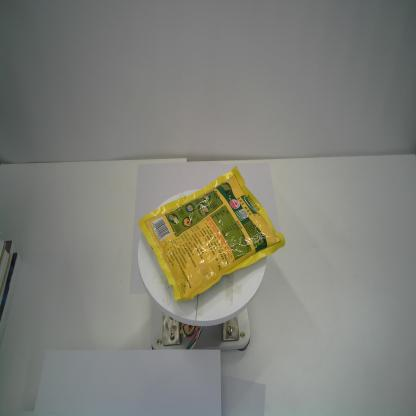Seasoner: (137, 163, 286, 305)
